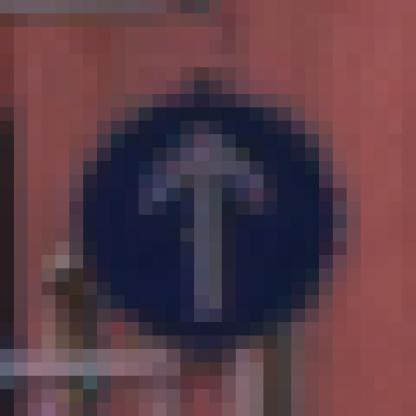AheadOnly: (70, 68, 348, 350)
